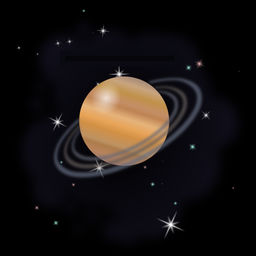planet: (53, 64, 201, 179)
